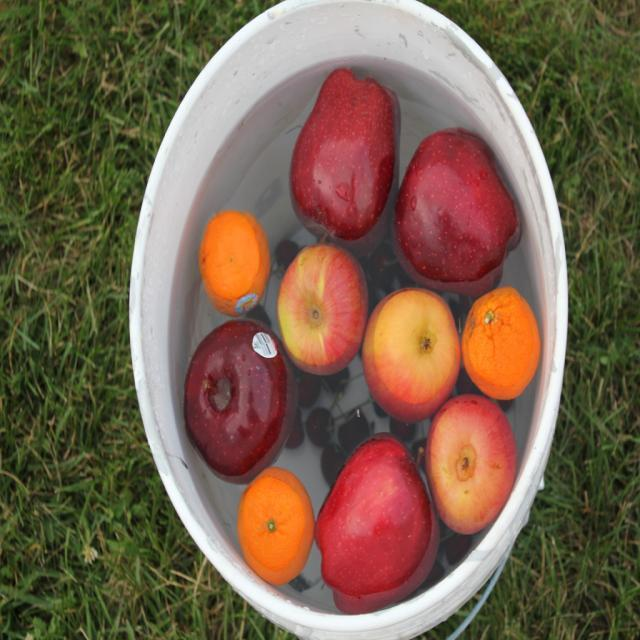Apple: (314, 434, 441, 614), (389, 129, 521, 297), (288, 69, 398, 254), (184, 318, 298, 482), (366, 284, 464, 423), (431, 392, 522, 532), (278, 246, 368, 376)
Orange: (461, 286, 541, 400), (237, 468, 315, 584), (198, 210, 270, 318)
